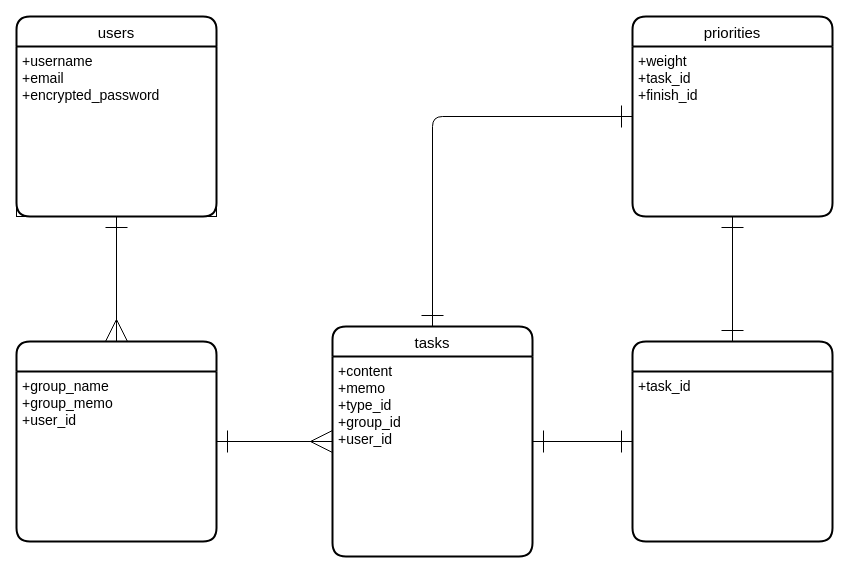
Some shapes in this 849 by 573 pixel diagram are drawn without their labels. Each missing label, with the box of its shape:
finishes: (631, 340, 833, 542)
groups: (15, 340, 217, 542)
